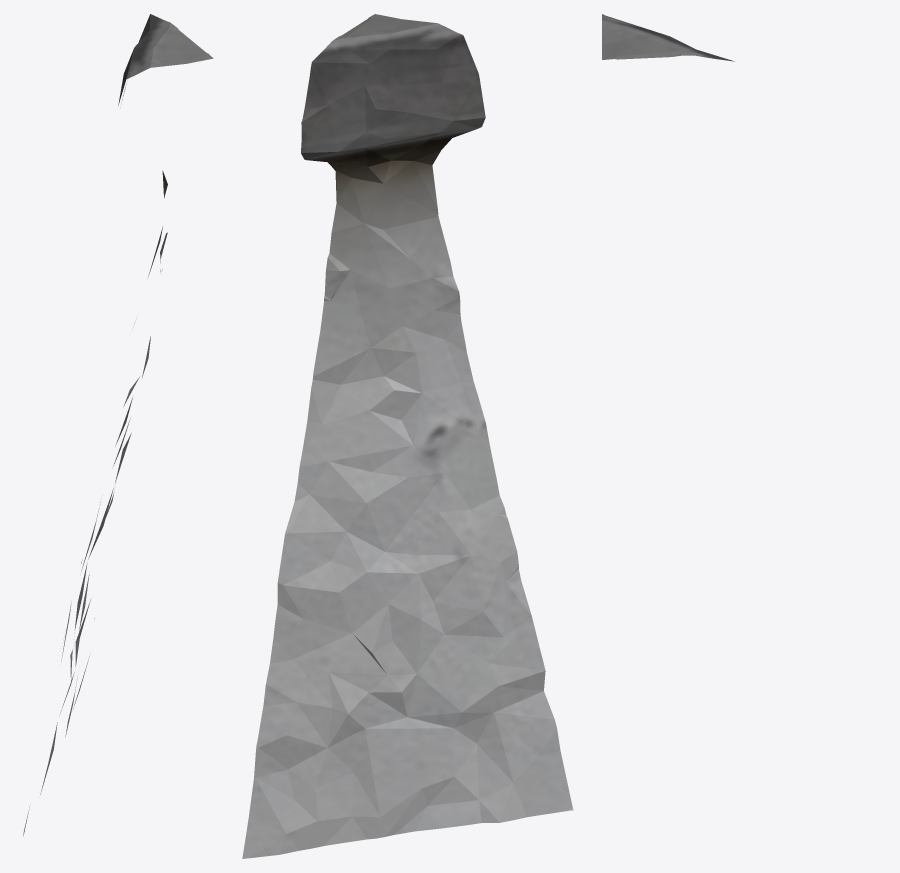
The picture shows the model from 3 angles, left to right: view 1: azimuth 30°, elevation 25°; view 2: azimuth 150°, elevation 25°; view 3: azimuth 270°, elevation 25°; orthographic projection. The views are drawn at different scales.
Size of the model in its own units: 0.221 by 0.8017 by 0.256.
1 material, 1 textured.
